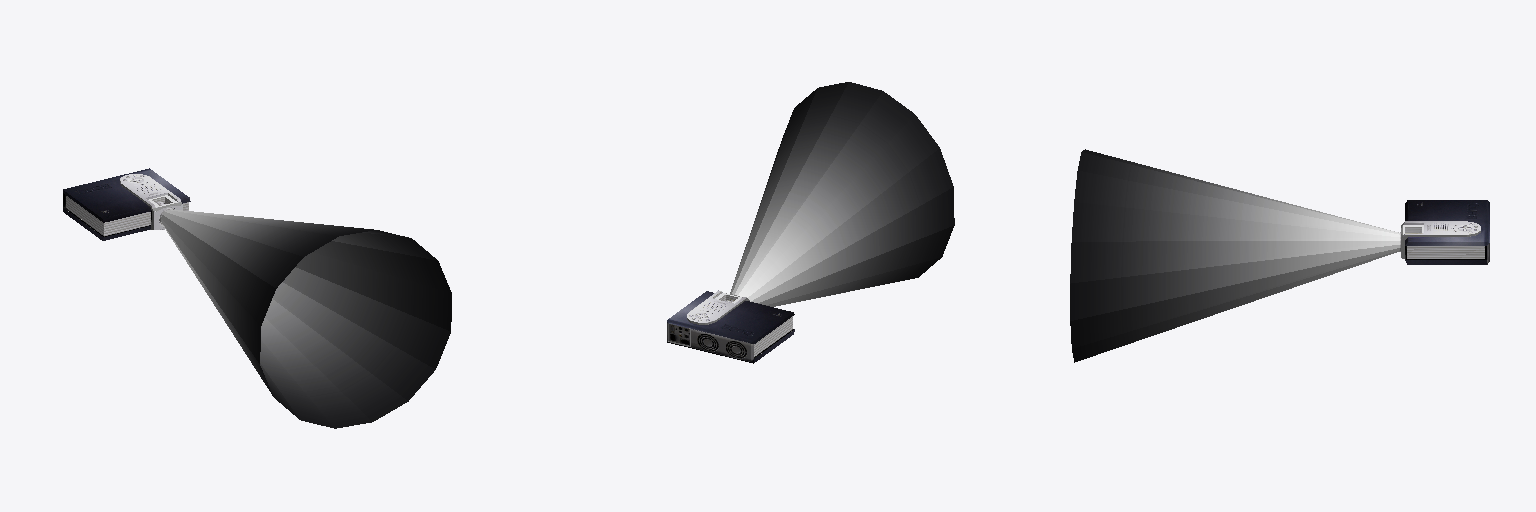
3 views of the same model, side by side, from view 1: azimuth 30°, elevation 25°; view 2: azimuth 150°, elevation 25°; view 3: azimuth 270°, elevation 25° (orthographic).
Visible parts, largest first — view 1: Plane.547_Plane.001; view 2: Plane.547_Plane.001; view 3: Plane.547_Plane.001.
Boxes of the visible parts, x1=… form: Plane.547_Plane.001: x1=63, y1=168, x2=451, y2=428; Plane.547_Plane.001: x1=667, y1=82, x2=954, y2=363; Plane.547_Plane.001: x1=1070, y1=149, x2=1489, y2=362.
Bounding box in the file's own units: 1.51 × 1.52 × 3.
Materials: 3 (2 with a texture image).